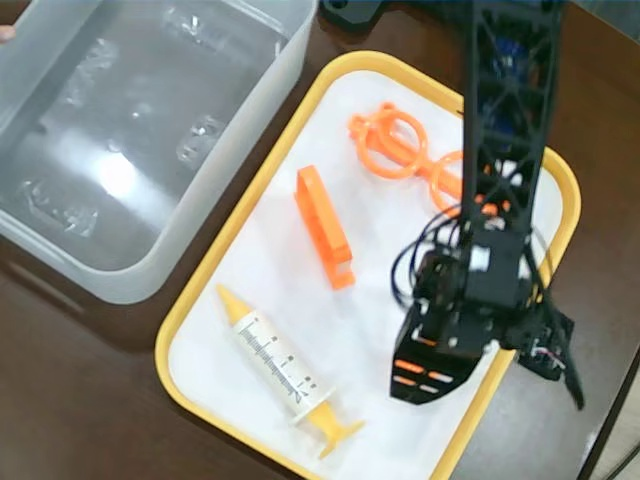syringe: (216, 282, 367, 459)
